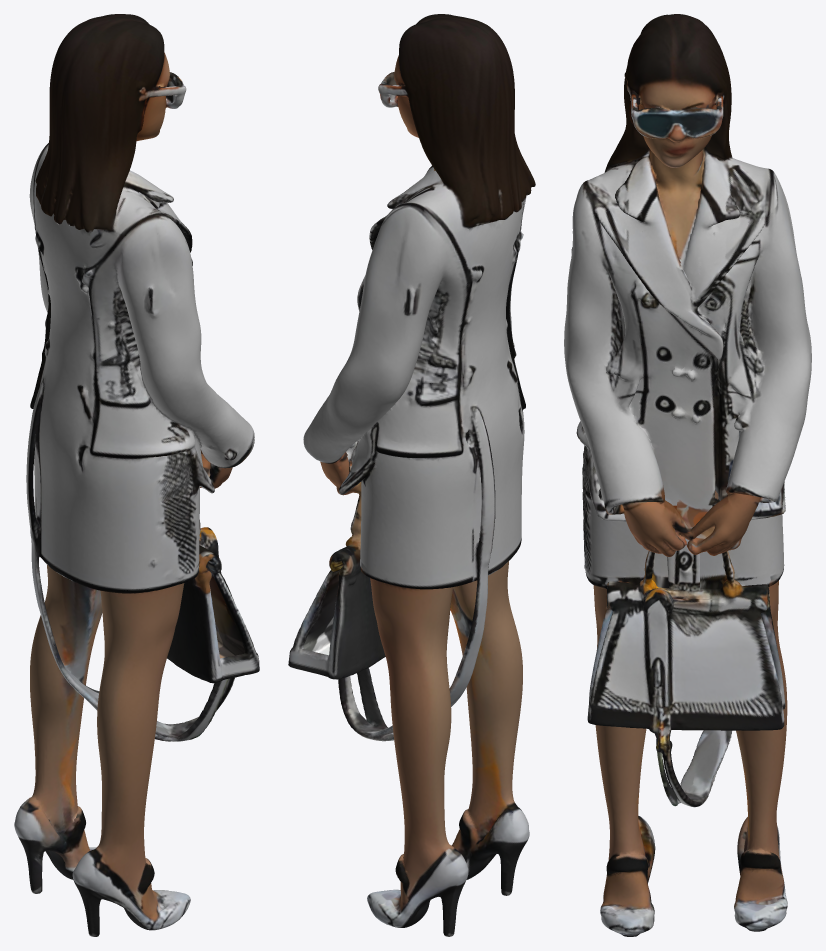
File: mannequin_metaretail.glb
The picture shows the model from 3 angles, left to right: view 1: azimuth 30°, elevation 25°; view 2: azimuth 150°, elevation 25°; view 3: azimuth 270°, elevation 25°; orthographic projection. The views are drawn at different scales.
Visible parts, largest first — view 1: tripo_node_300e4ced-80b2-4d47-8e4b-7812e5442460; view 2: tripo_node_300e4ced-80b2-4d47-8e4b-7812e5442460; view 3: tripo_node_300e4ced-80b2-4d47-8e4b-7812e5442460.
Part boxes in pixels (left/top/right/bottom): tripo_node_300e4ced-80b2-4d47-8e4b-7812e5442460: left=14, top=14, right=259, bottom=936; tripo_node_300e4ced-80b2-4d47-8e4b-7812e5442460: left=288, top=14, right=535, bottom=936; tripo_node_300e4ced-80b2-4d47-8e4b-7812e5442460: left=564, top=14, right=811, bottom=936.
Size of the model in its own units: 0.2219 by 1 by 0.2491.
1 material, 1 textured.
